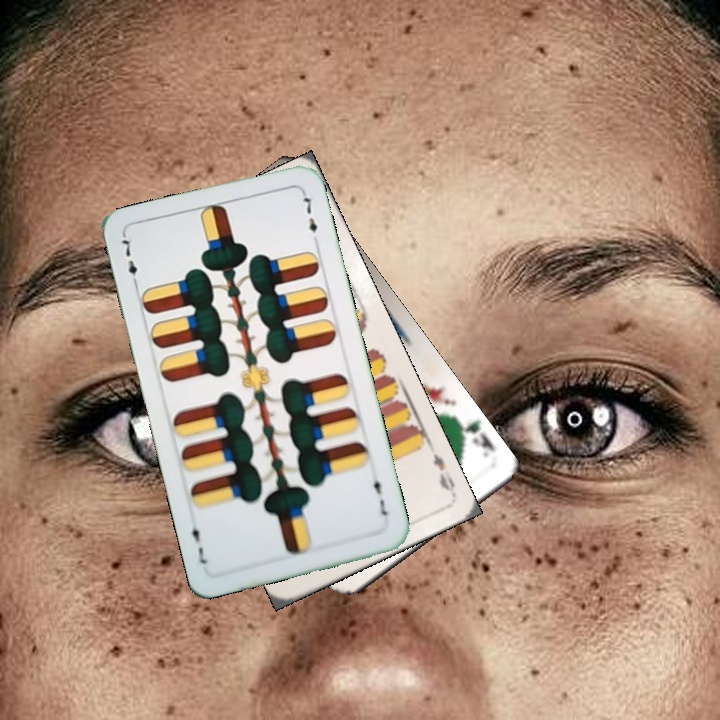E7: (116, 232, 141, 291), (369, 468, 390, 518)
E9: (429, 449, 458, 498)
GK: (454, 417, 499, 460)
